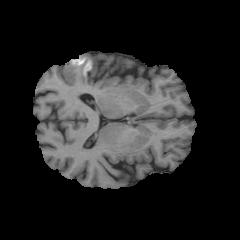glioma: (61, 54, 97, 85)
